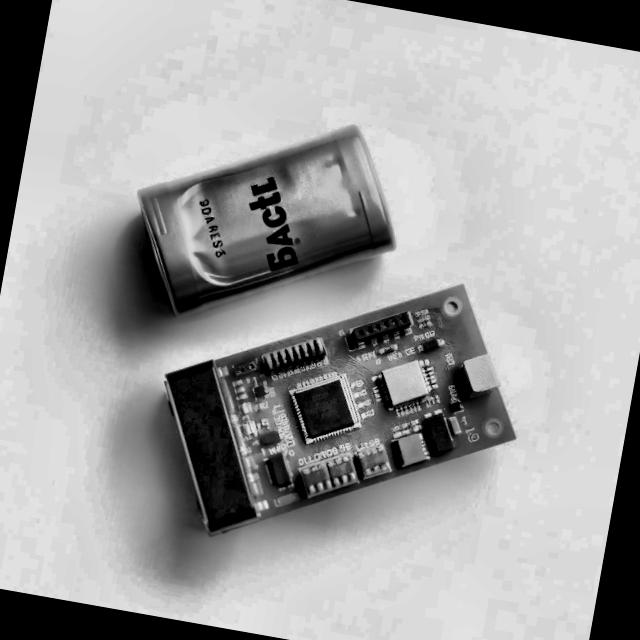Battery: (137, 126, 394, 313)
PCB: (164, 283, 513, 534)
